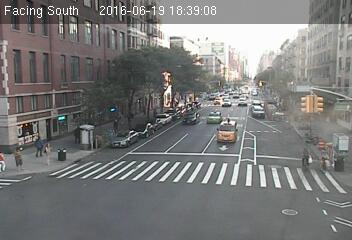neg: (81, 132, 102, 160), (55, 151, 73, 176), (300, 120, 318, 143), (45, 116, 61, 137), (11, 123, 26, 142), (160, 87, 174, 107), (74, 148, 87, 166), (32, 109, 45, 125)
pos: (7, 144, 28, 173), (26, 132, 46, 159), (295, 146, 315, 173), (37, 139, 57, 164), (69, 123, 86, 146)
